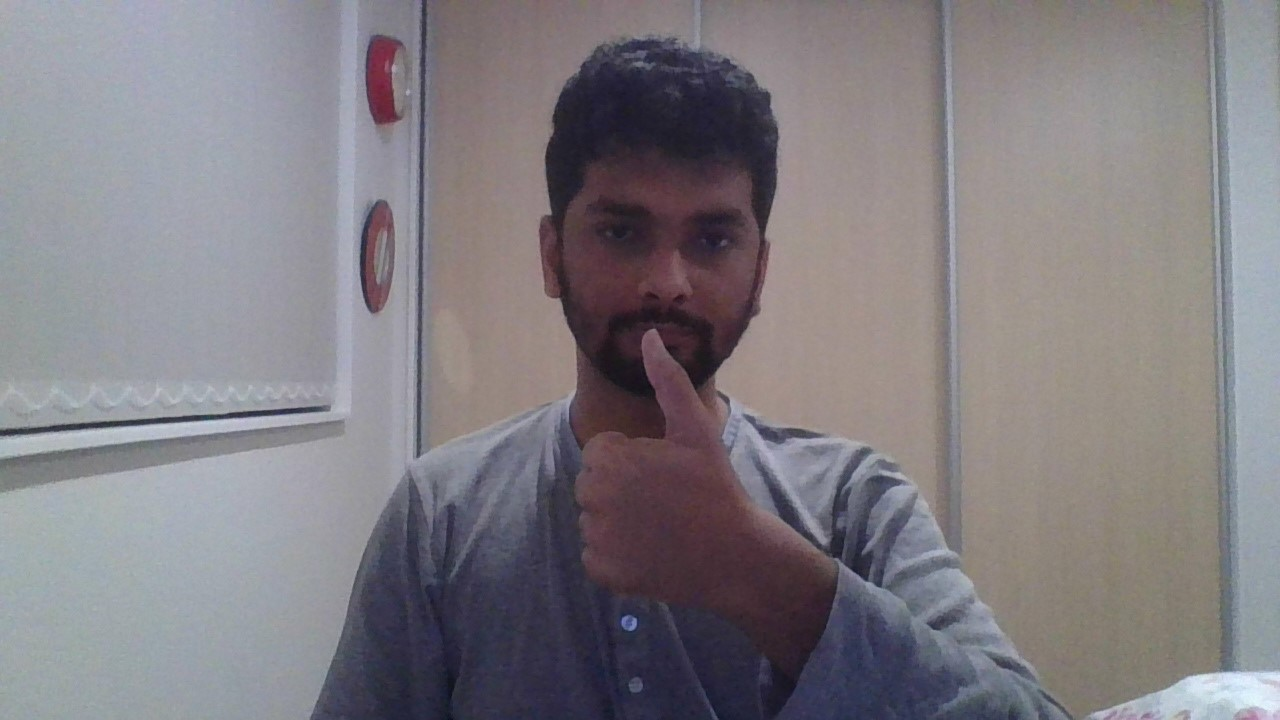good: (574, 329, 750, 620)
